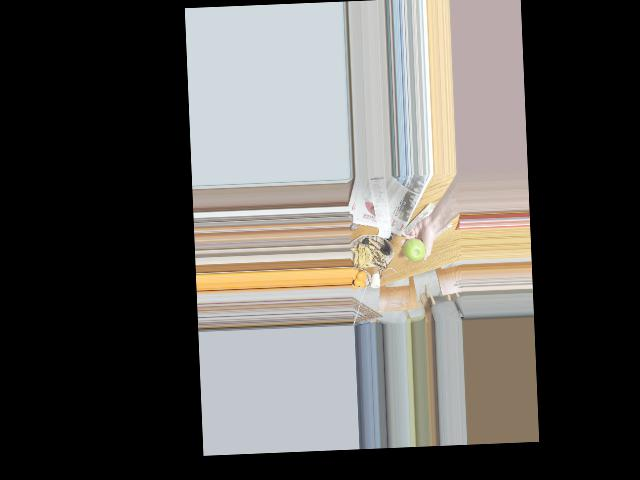apple: (402, 236, 426, 265)
